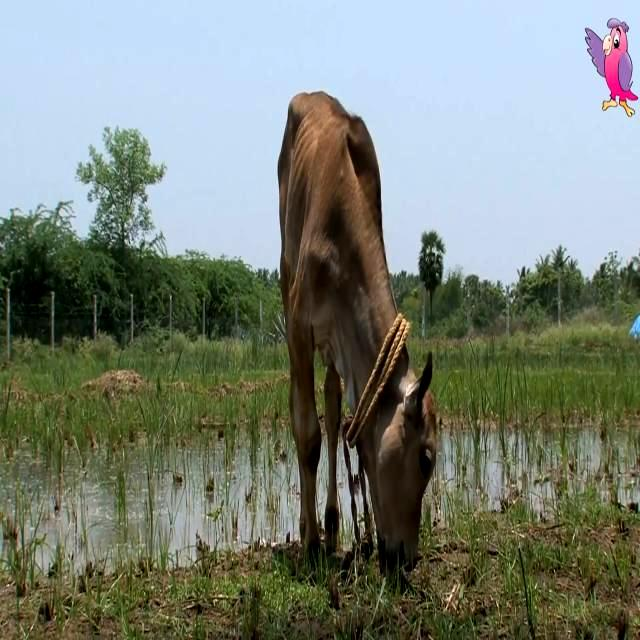COW: (278, 92, 436, 577)
